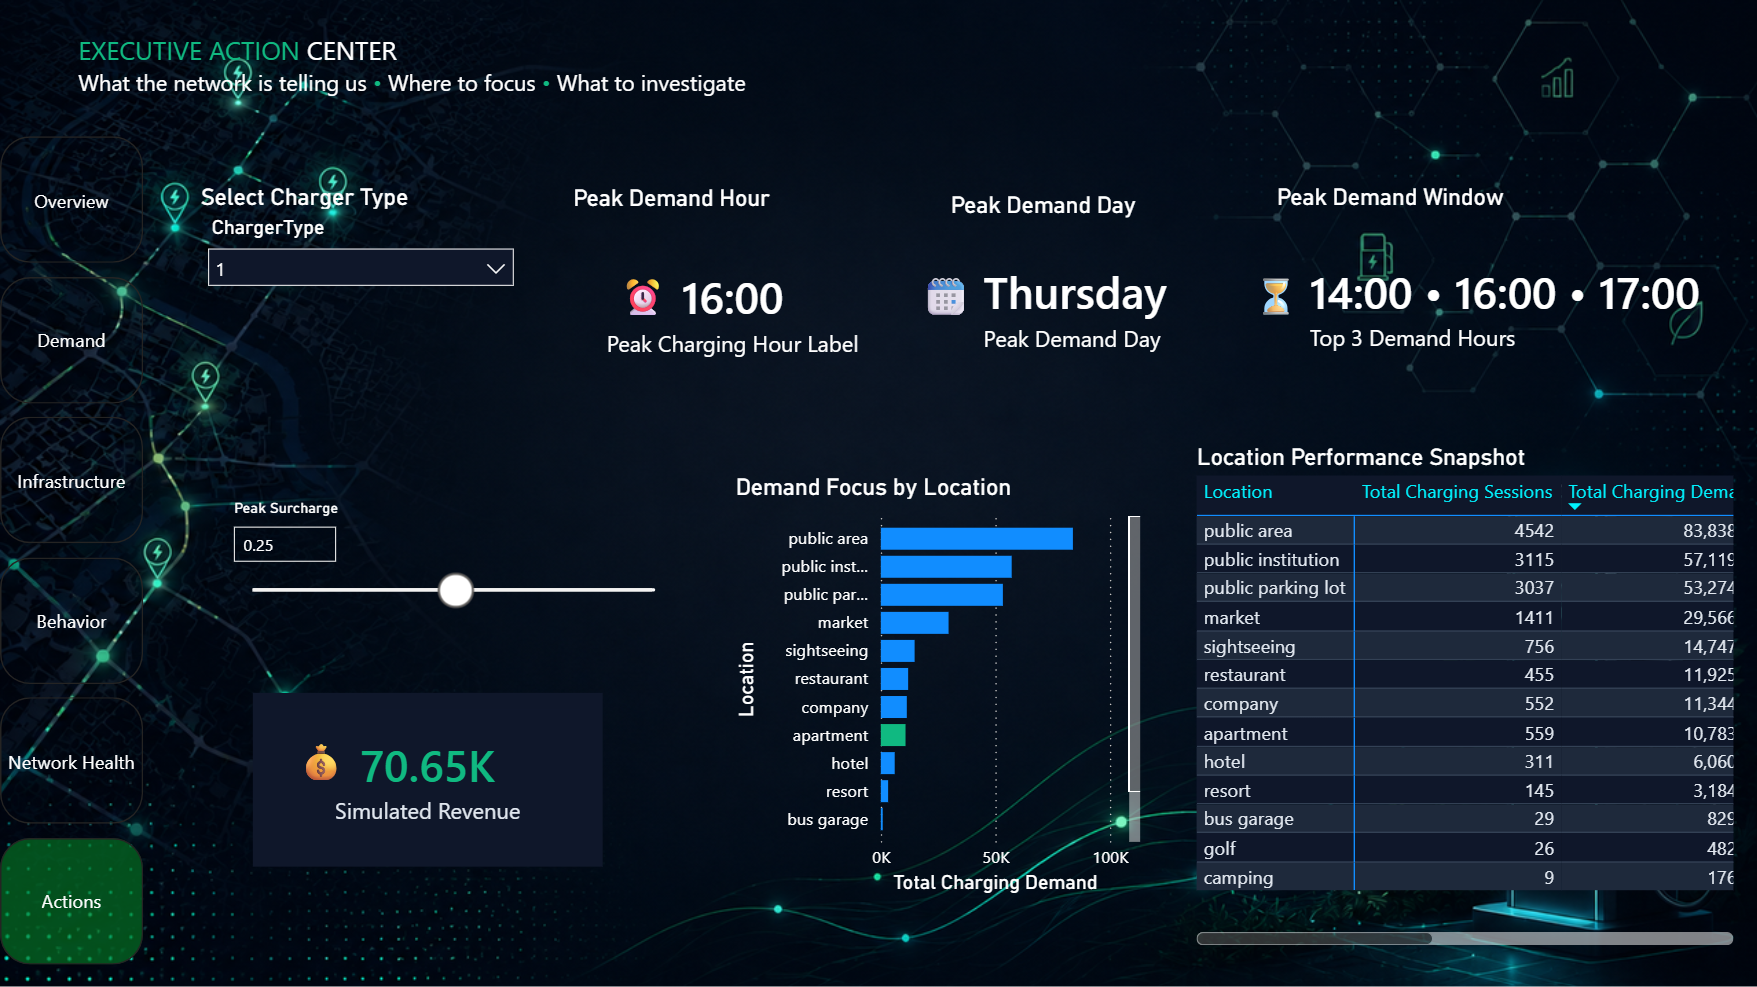

What the dashboard file says about the page in this screenshot:
{"tool":"powerbi","page":{"name":"Actions","canvas":[1280,720],"ordinal":5},"visuals":[{"type":"pageNavigator","box":[0,99.3,104.5,607.3],"z":0},{"type":"slicer","title":"Select Charger Type","fields":{"Values":["Dim_Charger.ChargerType"]},"box":[141.2,132.7,242.5,168.9],"z":0,"group":"g1"},{"type":"textbox","box":[51.9,18.8,541,60.6],"z":1000},{"type":"cardVisual","title":"Peak Demand Hour","fields":{"Data":["Calculation_tbl.Peak Charging Hour Label"]},"box":[412.2,133.9,242.5,167.7],"z":1000,"group":"g1"},{"type":"group","id":"g1","title":"Group_Actions","box":[141.2,132.7,1132.7,559.6],"z":2000},{"type":"cardVisual","title":"Peak Demand Day","fields":{"Data":["Calculation_tbl.Peak Demand Day"]},"box":[686.4,138.6,251,150],"z":2000,"group":"g1"},{"type":"textbox","box":[210.3,529.8,52.2,63.6],"z":2001},{"type":"textbox","box":[443.4,192.4,101.1,63.6],"z":2002},{"type":"textbox","box":[664.7,191.8,47.1,78.4],"z":2003},{"type":"textbox","box":[904.8,191.8,48.3,63.9],"z":2004},{"type":"cardVisual","title":"Peak Demand Window","fields":{"Data":["Calculation_tbl.Top 3 Demand Hours"]},"box":[924,133.1,349.9,161.7],"z":3000,"group":"g1"},{"type":"clusteredBarChart","title":"Demand Focus by Location","fields":{"Category":["Fact_Charging_Records.Location"],"Y":["Calculation_tbl.Total Charging Demand"]},"box":[530.5,343.8,304.4,311.6],"z":4000,"group":"g1"},{"type":"pivotTable","title":"Location Performance Snapshot","fields":{"Rows":["Fact_Charging_Records.Location"],"Values":["Calculation_tbl.Total Charging Sessions","Calculation_tbl.Total Charging Demand","Calculation_tbl.Average Demand / Session","Calculation_tbl.Average Energy / Session"]},"box":[866.1,321.9,400.5,370.4],"z":5000,"group":"g1"},{"type":"slicer","fields":{"Values":["Peak Surcharge.Peak Surcharge"]},"box":[157.7,358.3,340.2,135.1],"z":6000,"group":"g1"},{"type":"cardVisual","fields":{"Data":["Calculation_tbl.Simulated Revenue"]},"box":[179.4,499.5,264.2,136.3],"z":7000,"group":"g1"}]}

Visuals, with their boxes in screenshot pixels (x1, y1, x2, y2), scaled from the page's 1280x720 canvas onto the 1757x987 screenshot:
pageNavigator: [0,136,143,969]
"Select Charger Type" slicer: [194,182,527,413]
textbox: [71,26,814,109]
"Peak Demand Hour" cardVisual: [566,184,899,413]
"Group_Actions" group: [194,182,1749,949]
"Peak Demand Day" cardVisual: [942,190,1287,396]
textbox: [289,726,360,813]
textbox: [609,264,747,351]
textbox: [912,263,977,370]
textbox: [1242,263,1308,351]
"Peak Demand Window" cardVisual: [1268,182,1749,404]
"Demand Focus by Location" clusteredBarChart: [728,471,1146,898]
"Location Performance Snapshot" pivotTable: [1189,441,1739,949]
slicer - Peak Surcharge.Peak Surcharge: [216,491,683,676]
cardVisual - Calculation_tbl.Simulated Revenue: [246,685,609,872]
